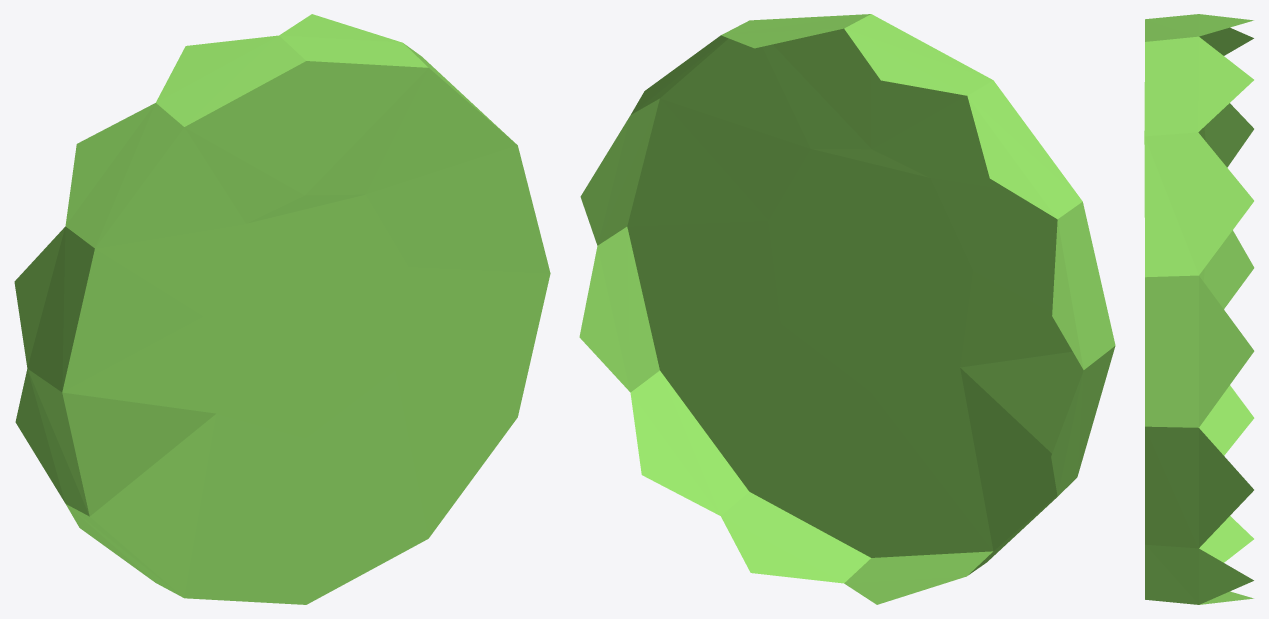
File: BR_Ludicolo-Shiny02.obj
3 renders of one model, left to right at view 1: azimuth 30°, elevation 25°; view 2: azimuth 150°, elevation 25°; view 3: azimuth 270°, elevation 25°, orthographic.
Parts seen in each view (by area): view 1: runpappa; view 2: runpappa; view 3: runpappa.
Boxes of the visible parts, x1,y1,x2,y2 form: runpappa: (14,14,550,604); runpappa: (579,14,1115,604); runpappa: (1144,14,1254,604).
Bounding box in the file's own units: 10.99 × 11.84 × 2.16.
1 material, 1 textured.
